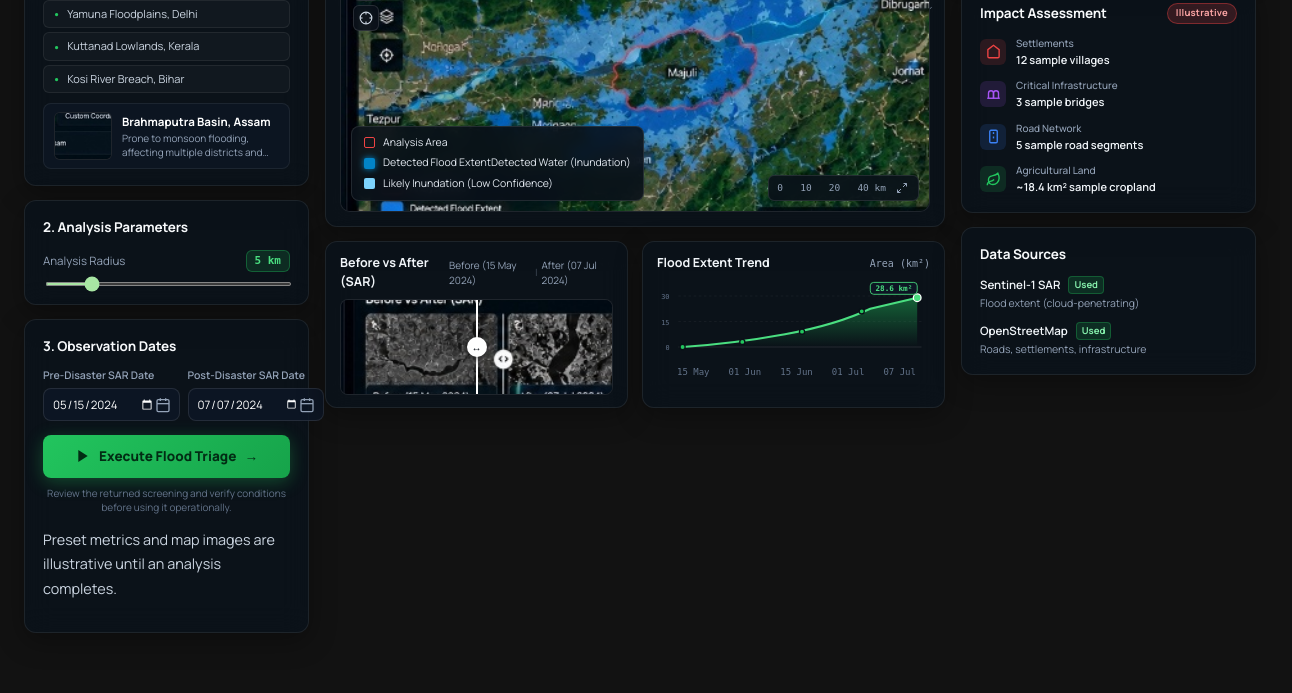
it: sends backend request fields and displays the returned screening
The image size is (1292, 693).
(page scrolled)
What coordinates should you click on to do the following:
click the button "Execute Flood Triage →"
I would click on:
 (166, 456)
Its box is [43,435,290,478].
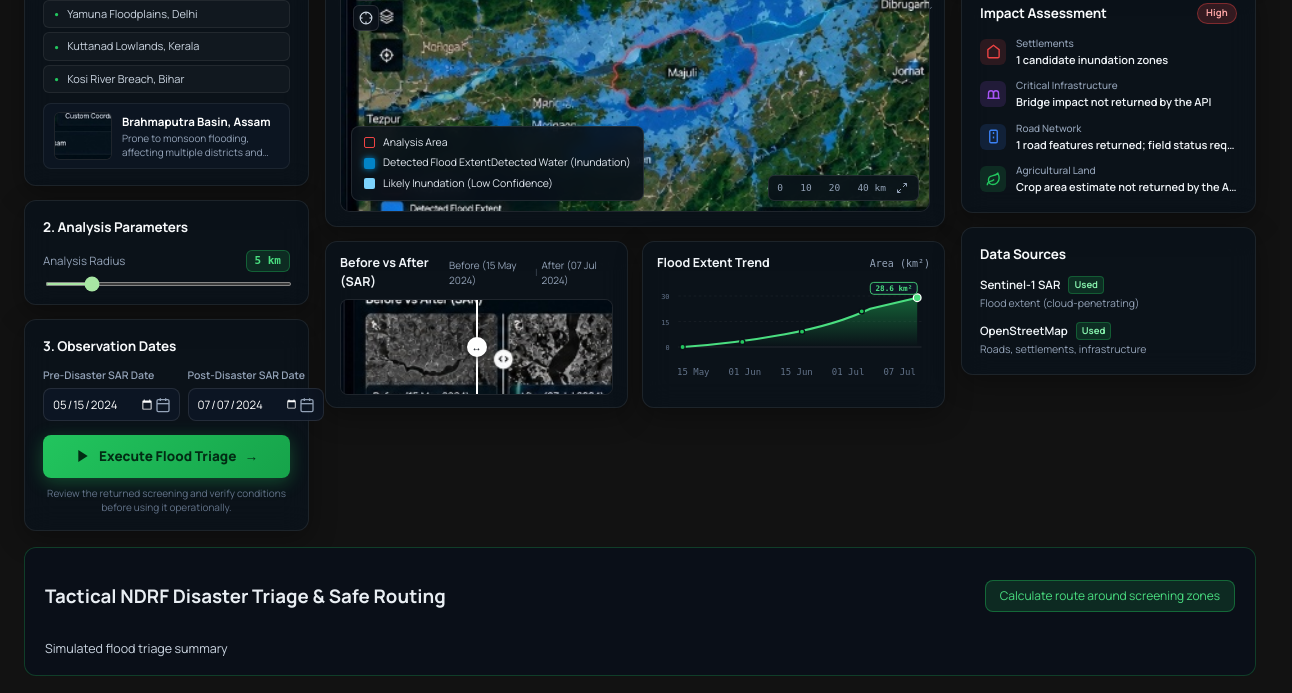
Check: the text "Simulated flood triage summary" is shown, box [45,640,228,657]
Check: the text "Bridge impact not returned by the API" is shown, box [1016,94,1211,110]
